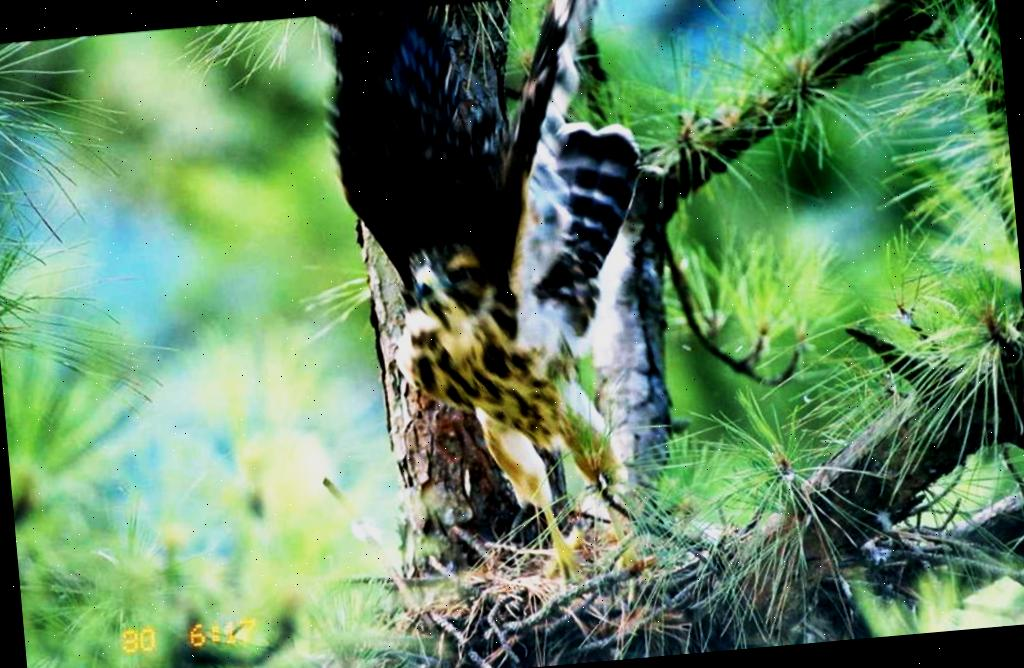Owl: (314, 0, 689, 613)
